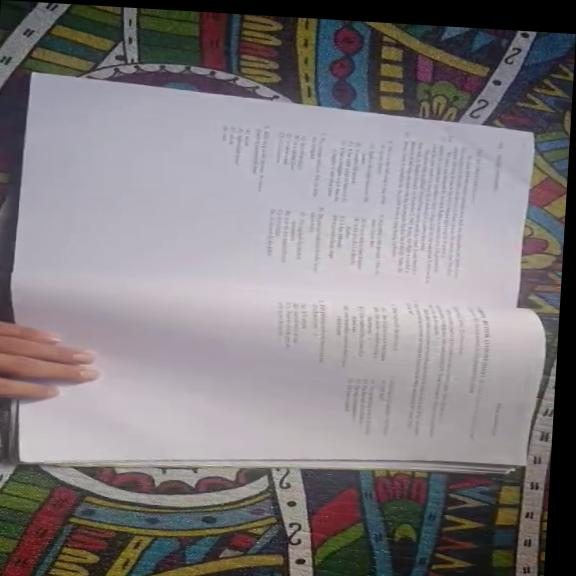Kertas: (15, 74, 531, 307), (13, 285, 542, 466)
